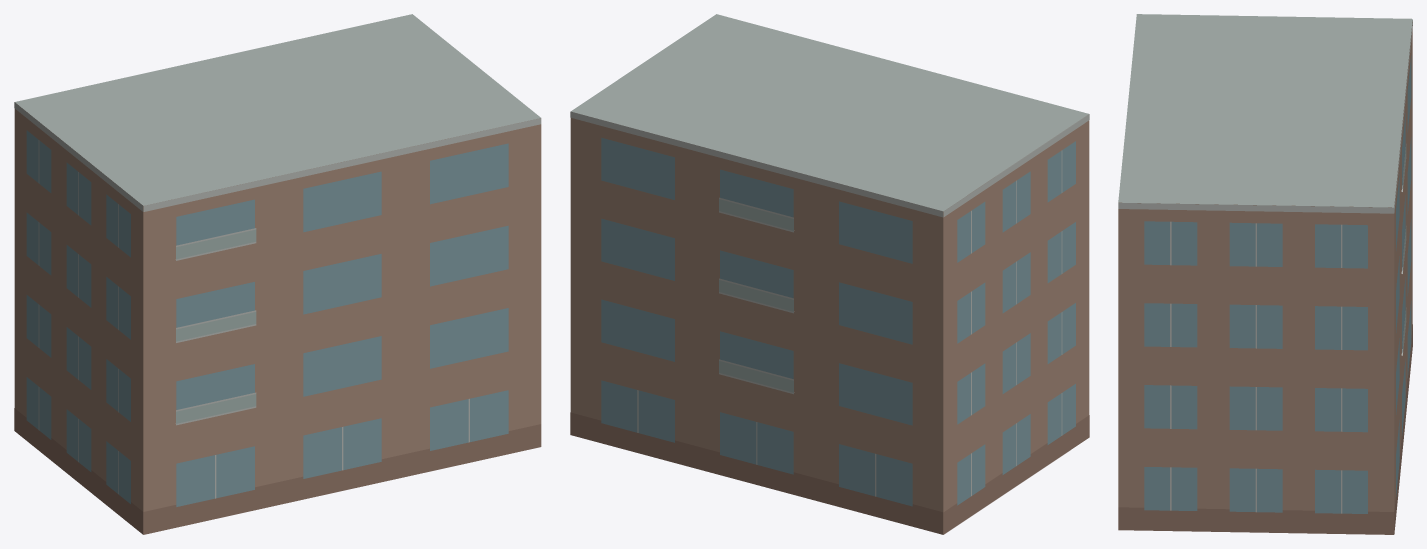
The model's file is survey-upis-32669484.glb.
The picture shows the model from 3 angles, left to right: view 1: azimuth 30°, elevation 25°; view 2: azimuth 150°, elevation 25°; view 3: azimuth 270°, elevation 25°; orthographic projection.
Visible parts, largest first — view 1: survey-upis-32669484.tmp; view 2: survey-upis-32669484.tmp; view 3: survey-upis-32669484.tmp.
Part boxes in pixels (left/top/right/bottom): survey-upis-32669484.tmp: left=14, top=14, right=541, bottom=534; survey-upis-32669484.tmp: left=570, top=14, right=1089, bottom=534; survey-upis-32669484.tmp: left=1118, top=14, right=1412, bottom=534.
Bounding box in the file's own units: 16.23 × 12.8 × 10.45.
